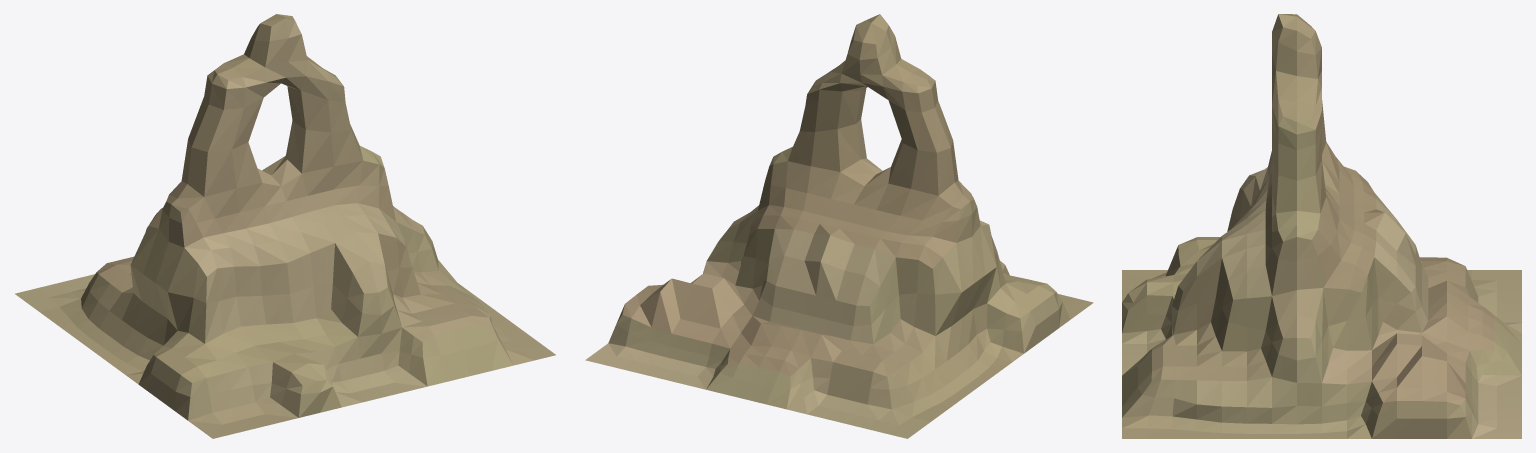
The model's file is Mountain_desert_009.obj.
The picture shows the model from 3 angles, left to right: view 1: azimuth 30°, elevation 25°; view 2: azimuth 150°, elevation 25°; view 3: azimuth 270°, elevation 25°; orthographic projection. The views are drawn at different scales.
Visible parts, largest first — view 1: Mountain_desert_009; view 2: Mountain_desert_009; view 3: Mountain_desert_009.
Part boxes in pixels (x1,y1,x2,y2): Mountain_desert_009: (15,14,555,438); Mountain_desert_009: (585,14,1093,438); Mountain_desert_009: (1122,14,1521,438).
Size of the model in its own units: 2300 by 2094 by 2300.
1 material, 1 textured.
